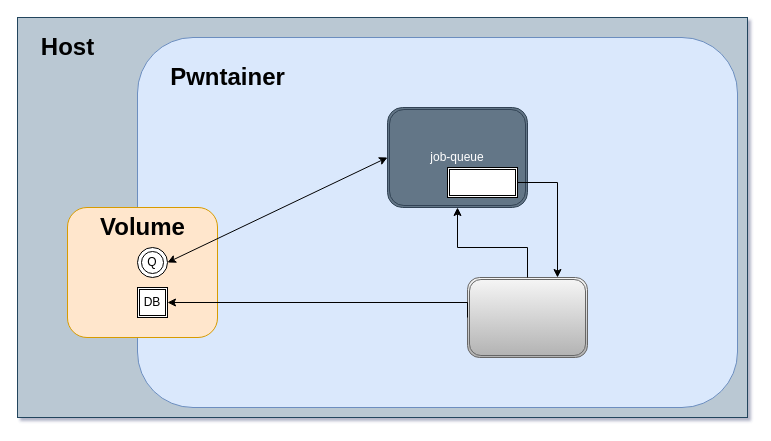
Image size: 771x441. Some labels were removed from this diagram. Each missing label, with the centre of its shape:
"Jobs" belongs at point (482, 182).
"pwnctl" belongs at point (527, 317).
